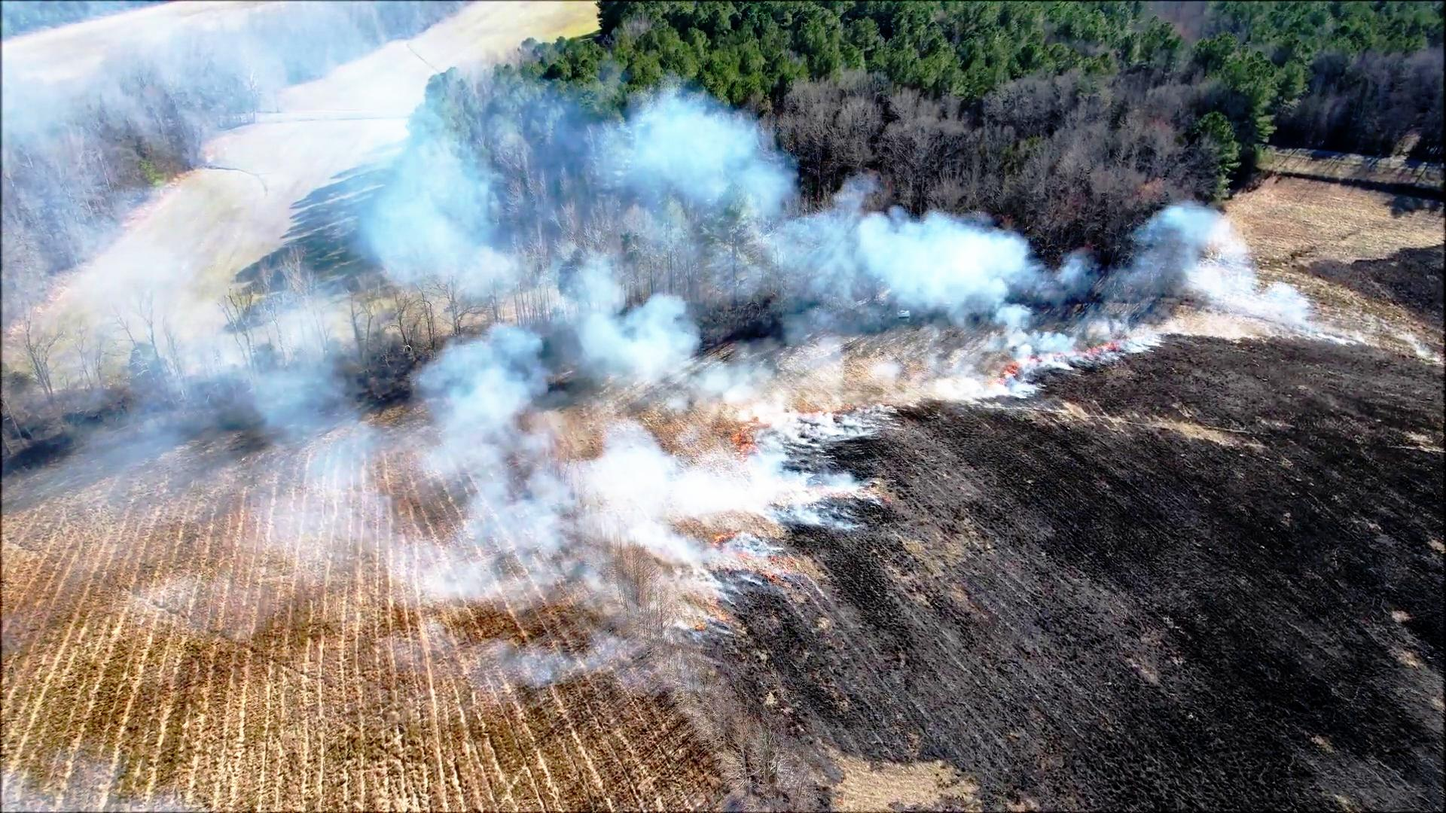smoke: (595, 94, 1103, 422), (350, 147, 576, 617), (580, 422, 874, 602), (1149, 196, 1326, 350)
